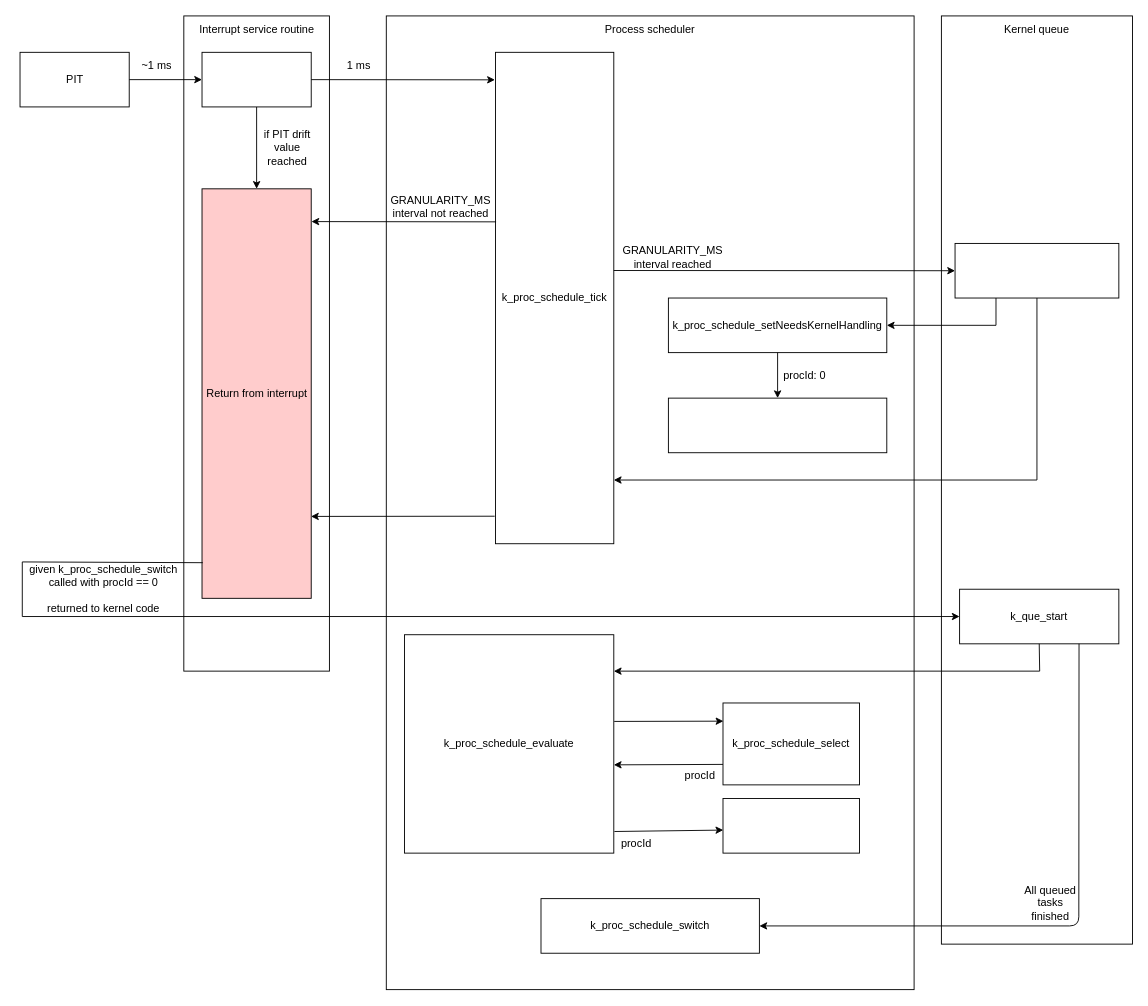
Some shapes in this 1148 by 1006 pixel diagram are drawn without their labels. Each missing label, with the centre of its shape:
"k_proc_schedule_stackSwitch" goes at [777,425].
"k_que_dispatch( k_proc_schedule_evaluate )" goes at [1036,270].
"k_tmr_tick" goes at [256,79].
"nextProc = procId" goes at [790,825].
